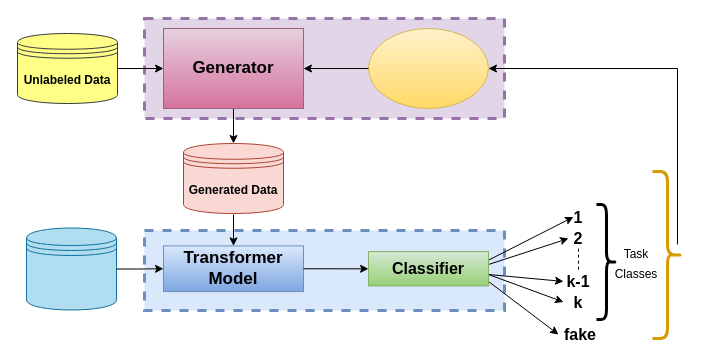
This 703x364 diagram has some shape labels left out. The centre of each missing label's shape, as x and y in pixels:
Labeled Data: [71,268]
Reward Approximator: [428,68]
